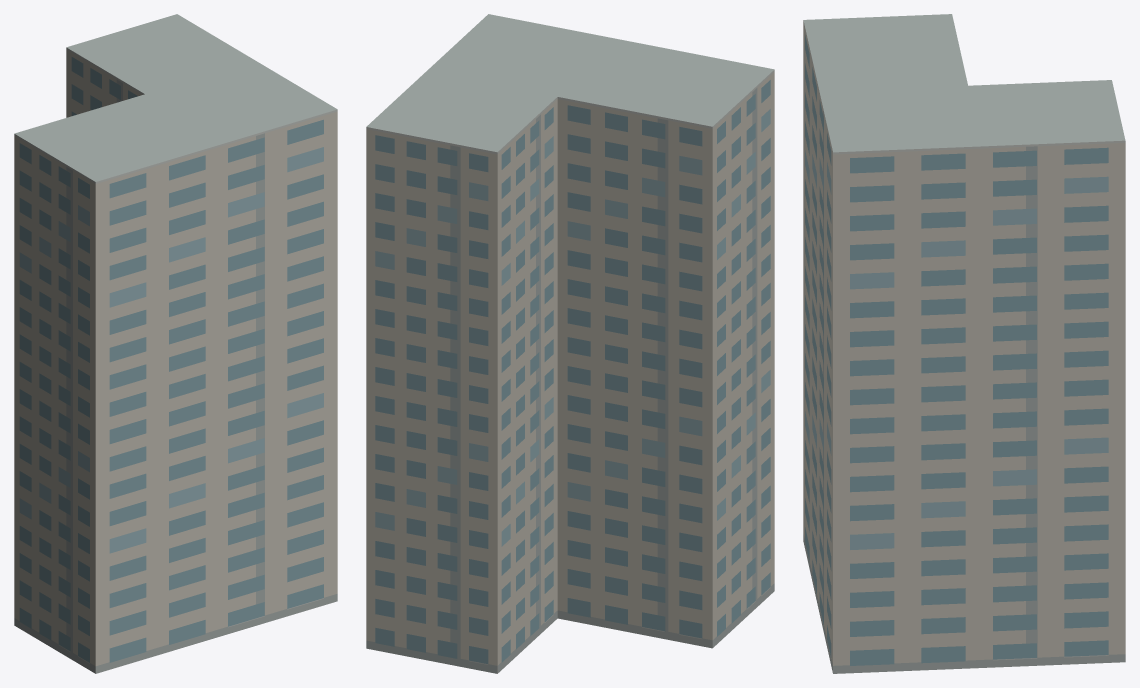
The model's file is residential-a01d2278-1c86-4f8a-ad01-e4eddea44ba9.glb.
3 views of the same model, side by side, from view 1: azimuth 30°, elevation 25°; view 2: azimuth 150°, elevation 25°; view 3: azimuth 270°, elevation 25° (orthographic). The views are drawn at different scales.
Visible parts, largest first — view 1: residential-a01d2278-1c86-4f8a-ad01-e4eddea44ba9.tmp; view 2: residential-a01d2278-1c86-4f8a-ad01-e4eddea44ba9.tmp; view 3: residential-a01d2278-1c86-4f8a-ad01-e4eddea44ba9.tmp.
Boxes of the visible parts, x1,y1,x2,y2 form: residential-a01d2278-1c86-4f8a-ad01-e4eddea44ba9.tmp: [14, 14, 337, 673]; residential-a01d2278-1c86-4f8a-ad01-e4eddea44ba9.tmp: [366, 14, 774, 673]; residential-a01d2278-1c86-4f8a-ad01-e4eddea44ba9.tmp: [803, 14, 1125, 673].
Bounding box in the file's own units: 33.58 × 59 × 33.03.
